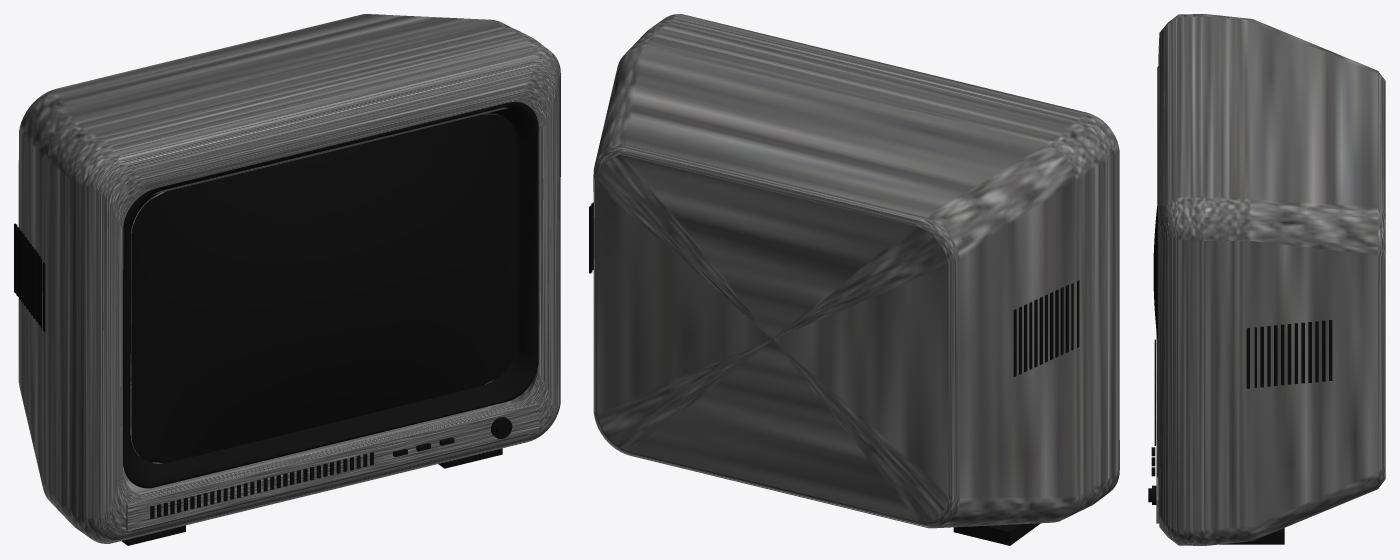
3 views of the same model, side by side, from view 1: azimuth 30°, elevation 25°; view 2: azimuth 150°, elevation 25°; view 3: azimuth 270°, elevation 25° (orthographic). The views are drawn at different scales.
Visible parts, largest first — view 1: screen, cabinet, front_housing, bezel, lower_panel, vent, foot; view 2: cabinet, vent, foot; view 3: cabinet, front_housing, vent, bezel, screen, foot, lower_panel.
Boxes of the visible parts, bbox=[...] form: screen: bbox=[131, 114, 517, 462]; cabinet: bbox=[18, 14, 560, 543]; front_housing: bbox=[95, 58, 557, 539]; bezel: bbox=[123, 102, 538, 488]; lower_panel: bbox=[126, 402, 539, 530]; vent: bbox=[14, 223, 45, 331]; foot: bbox=[121, 448, 502, 545]; cabinet: bbox=[593, 14, 1119, 528]; vent: bbox=[589, 202, 1079, 376]; foot: bbox=[953, 523, 1040, 545]; cabinet: bbox=[1168, 14, 1385, 545]; front_housing: bbox=[1158, 23, 1167, 536]; vent: bbox=[1246, 320, 1332, 388]; bezel: bbox=[1157, 66, 1158, 477]; screen: bbox=[1153, 206, 1157, 337]; foot: bbox=[1220, 528, 1284, 544]; lower_panel: bbox=[1156, 332, 1159, 523].
Size of the model in its own units: 4.56 by 3.69 by 2.21.
Materials: 5 (1 with a texture image).
